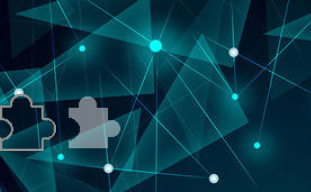target: (63, 91, 123, 154)
